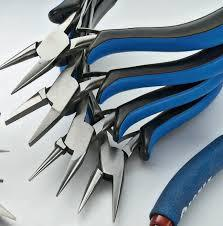pliers: (3, 47, 121, 146), (0, 0, 101, 94), (75, 130, 142, 222)
